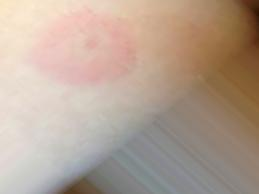Tick: (26, 6, 132, 78)
